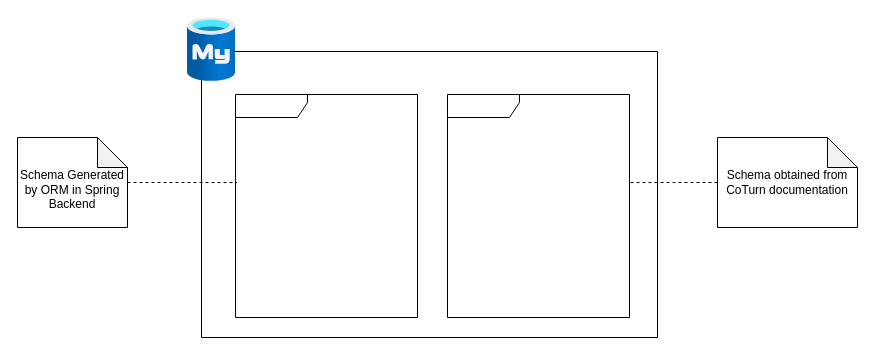
Image size: 875x355. Some labels were removed from this diagram. Here are the shapes that lost their labels. From the top down, the box of each, then its label:
(234, 94, 418, 318): Users DB
(446, 94, 630, 318): Coturn DB
